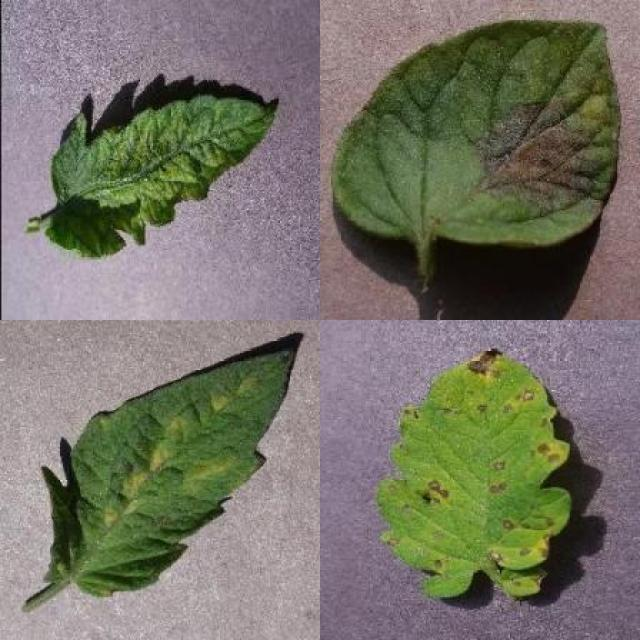Late Blight: (328, 17, 622, 250)
Leaf Mold: (42, 346, 298, 598)
Mosaic Virus: (45, 95, 278, 258)
Septoria: (377, 347, 572, 600)
